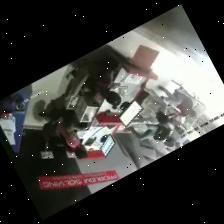person: (51, 100, 86, 158), (81, 62, 120, 108), (131, 81, 168, 124), (56, 117, 86, 158), (158, 85, 195, 116), (129, 124, 173, 146), (166, 106, 183, 133)
